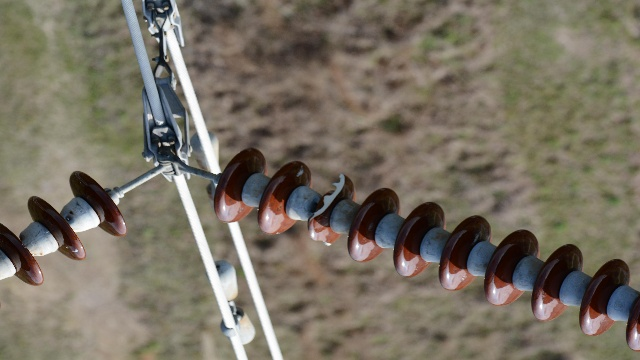broken_local: (309, 173, 344, 246)
insulator_unspecified: (215, 147, 639, 350), (2, 171, 126, 285)
